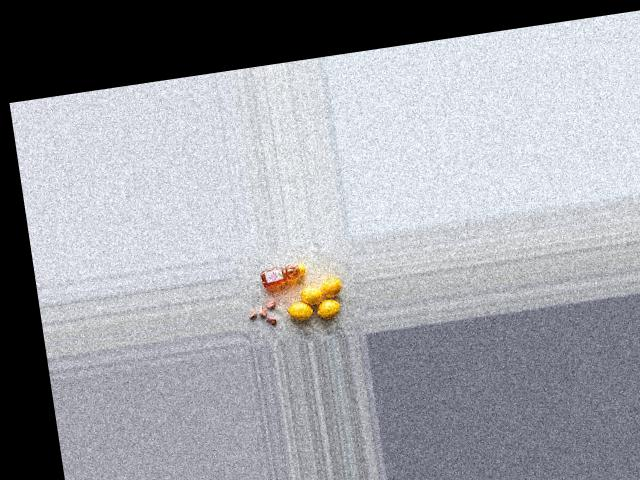lemon: (284, 296, 316, 326)
